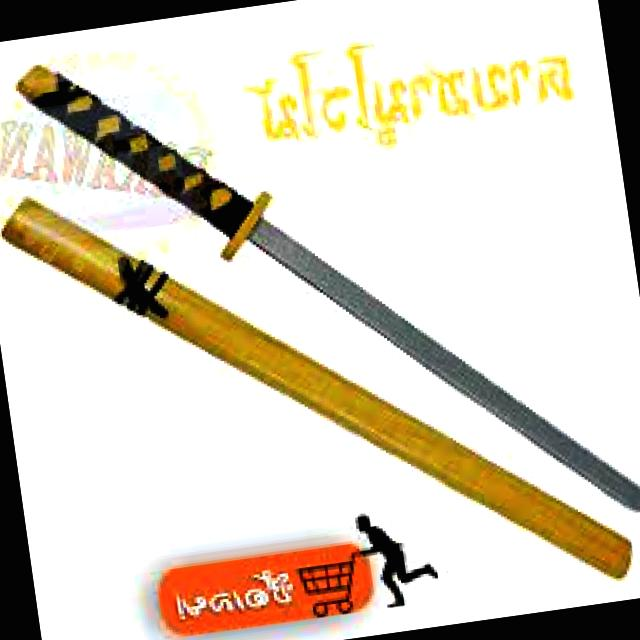long sword: (11, 0, 640, 586)
